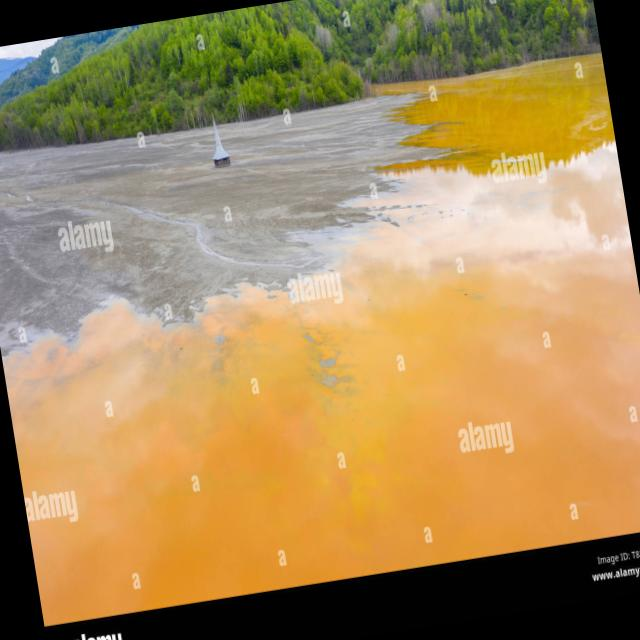yellow_boy: (3, 54, 640, 625)
